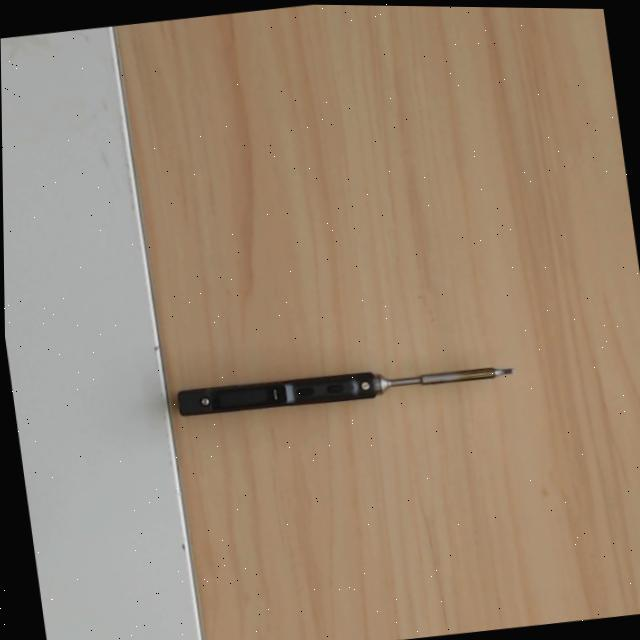Soldering-Iron: (176, 356, 515, 415)
